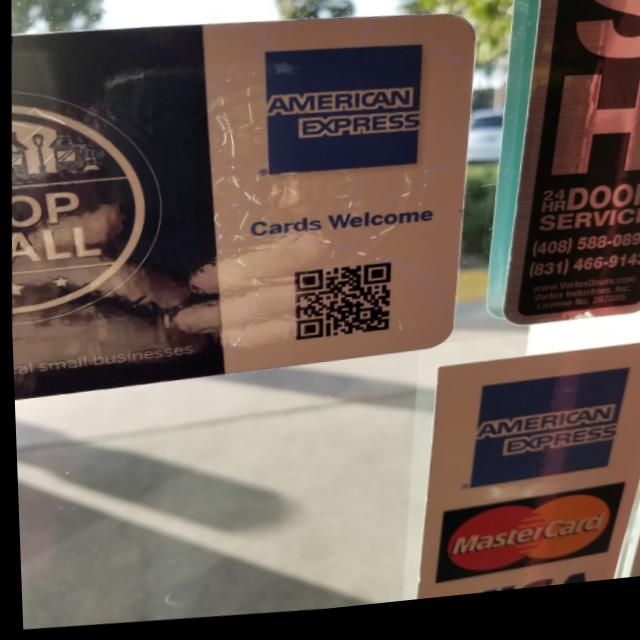QR_CODE: (277, 248, 402, 360)
